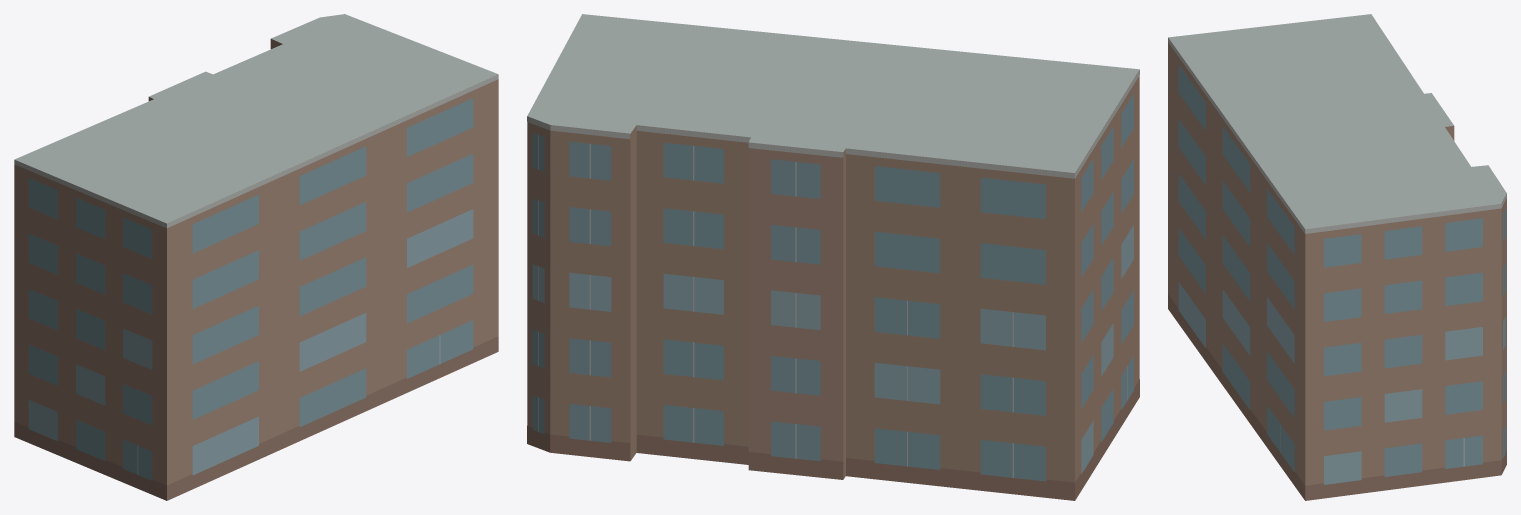
The model's file is survey-upis-32770354.glb.
3 views of the same model, side by side, from view 1: azimuth 30°, elevation 25°; view 2: azimuth 150°, elevation 25°; view 3: azimuth 270°, elevation 25° (orthographic). The views are drawn at different scales.
Visible parts, largest first — view 1: survey-upis-32770354.tmp; view 2: survey-upis-32770354.tmp; view 3: survey-upis-32770354.tmp.
Part boxes in pixels (x1,y1,x2,y2): survey-upis-32770354.tmp: (14, 14, 498, 500); survey-upis-32770354.tmp: (527, 14, 1139, 500); survey-upis-32770354.tmp: (1168, 14, 1506, 500).
Bounding box in the file's own units: 24.13 × 14.18 × 16.04.
